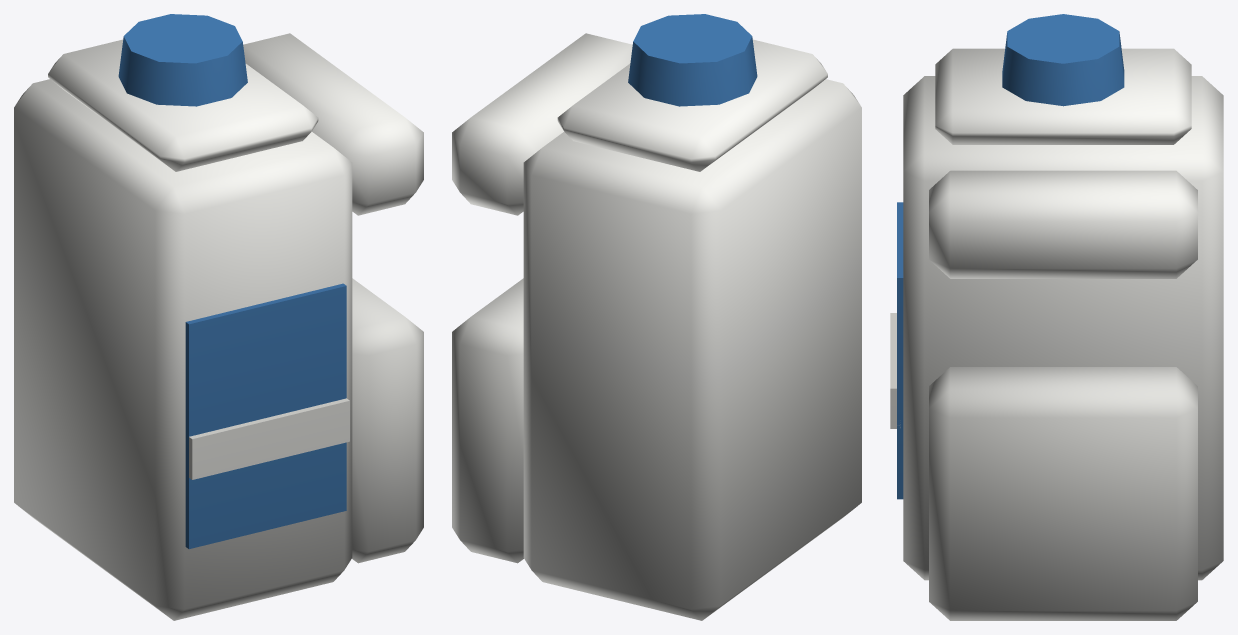
File: Jug_Milk_01.glb
3 renders of one model, left to right at view 1: azimuth 30°, elevation 25°; view 2: azimuth 150°, elevation 25°; view 3: azimuth 270°, elevation 25°, orthographic.
Parts seen in each view (by area): view 1: SM_Jug_Milk_01; view 2: SM_Jug_Milk_01; view 3: SM_Jug_Milk_01.
Part boxes in pixels (x1=…): SM_Jug_Milk_01: x1=14, y1=14, x2=423, y2=620; SM_Jug_Milk_01: x1=452, y1=14, x2=861, y2=620; SM_Jug_Milk_01: x1=890, y1=14, x2=1223, y2=620.
Bounding box in the file's own units: 0.15 × 0.26 × 0.156.
Materials: 1 (1 with a texture image).
